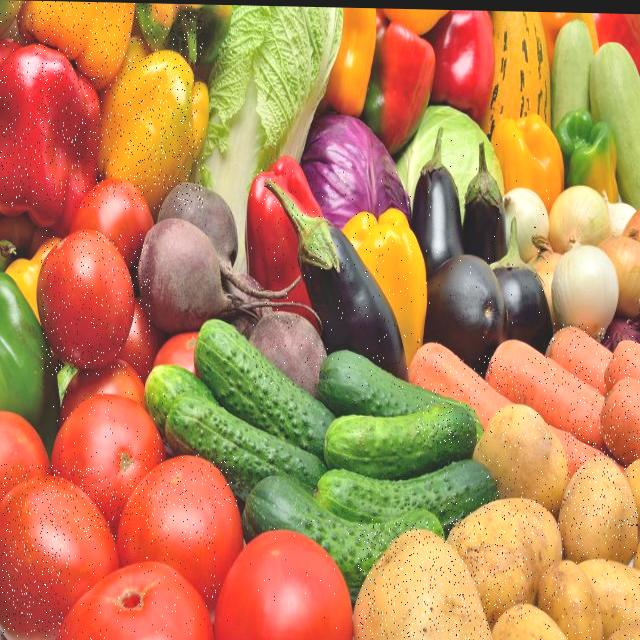Potato: (441, 498, 582, 625), (358, 519, 492, 640), (478, 391, 572, 518), (534, 537, 640, 640), (562, 432, 640, 571)
aubergine: (251, 168, 412, 388), (419, 133, 549, 357)
carrots: (417, 321, 640, 454)
peppers: (0, 0, 204, 210)
tomatoes: (1, 464, 123, 639), (115, 452, 238, 604), (216, 506, 349, 640), (41, 229, 150, 377), (49, 389, 168, 521), (69, 541, 211, 640)
